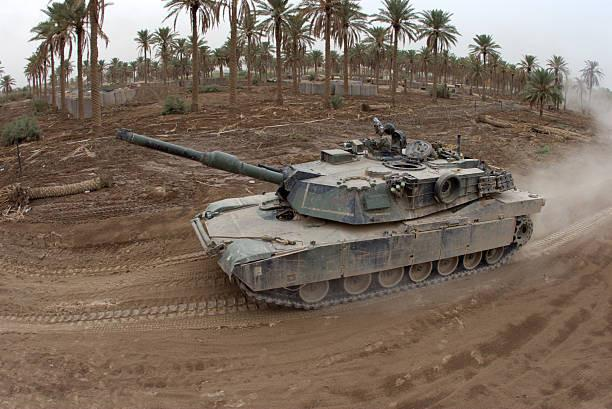tank: (119, 124, 546, 311)
